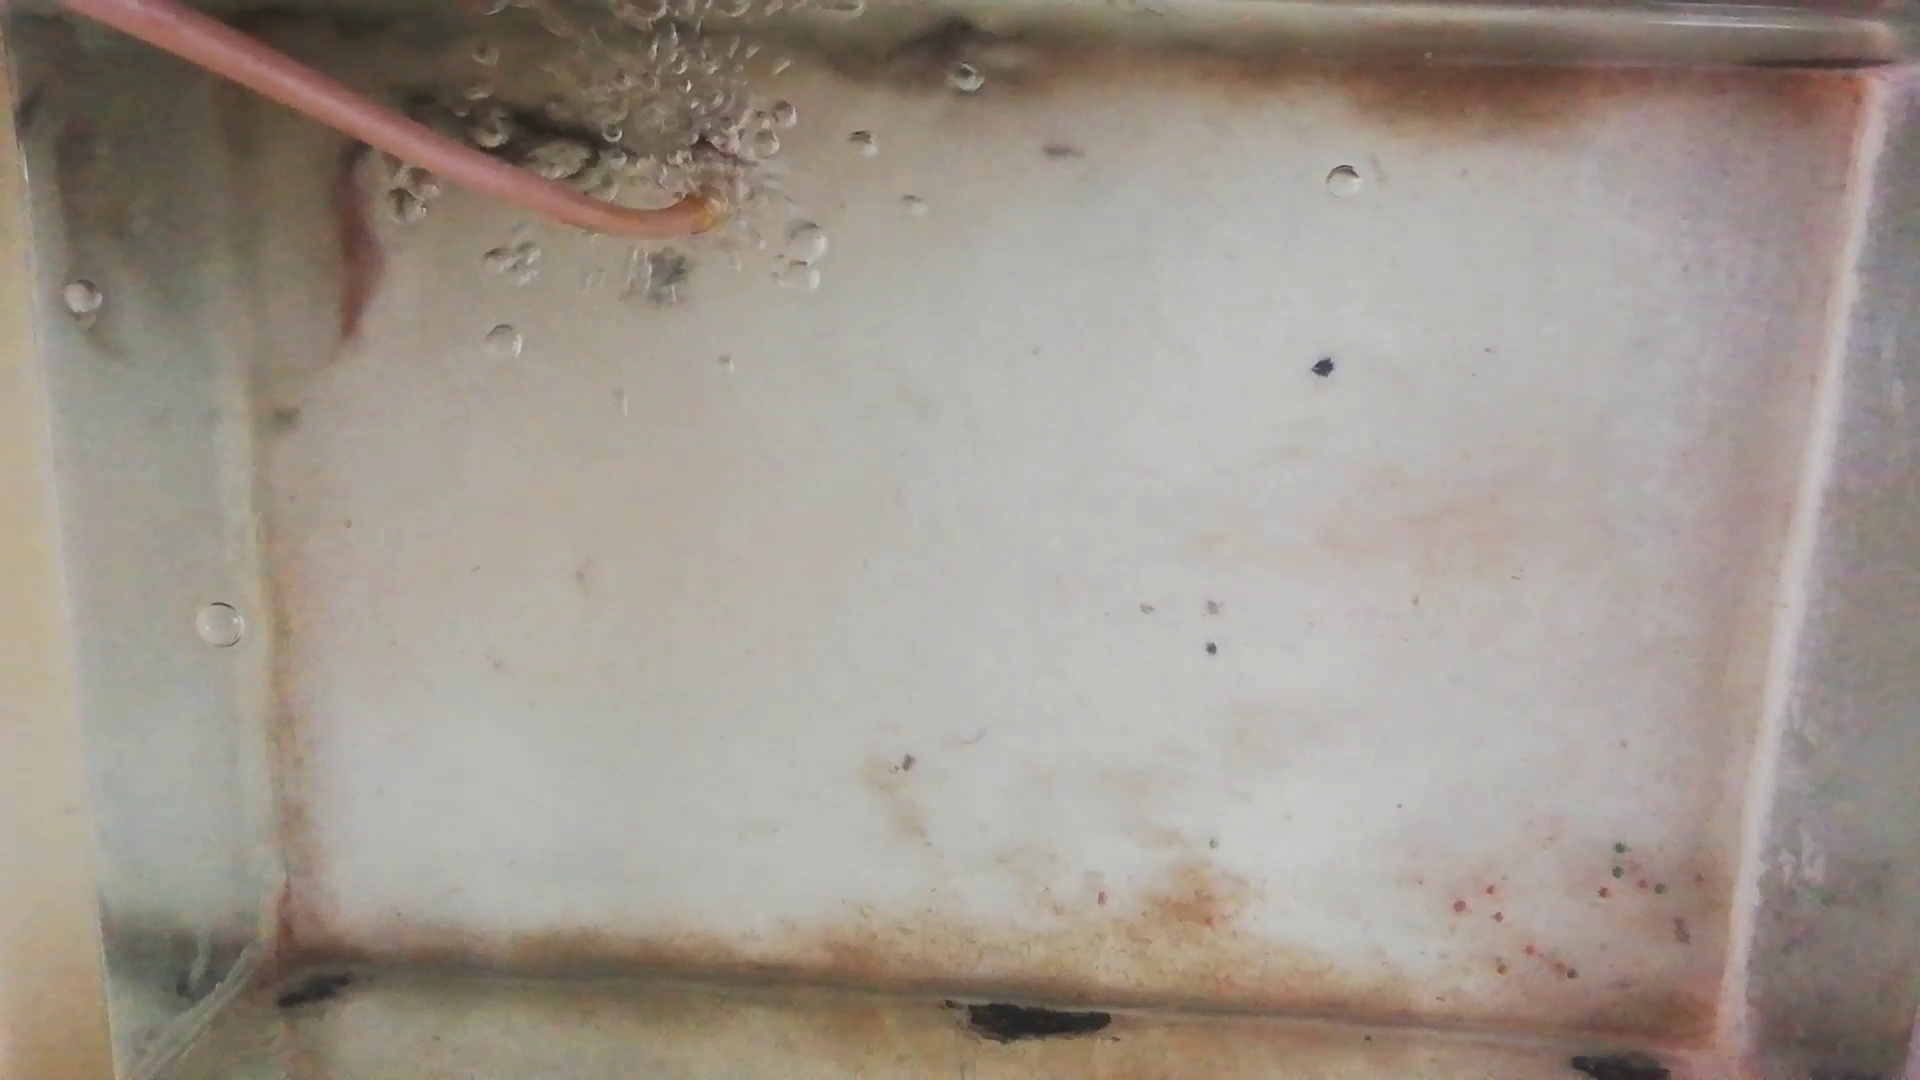fish: (409, 88, 633, 164), (327, 127, 389, 348)
